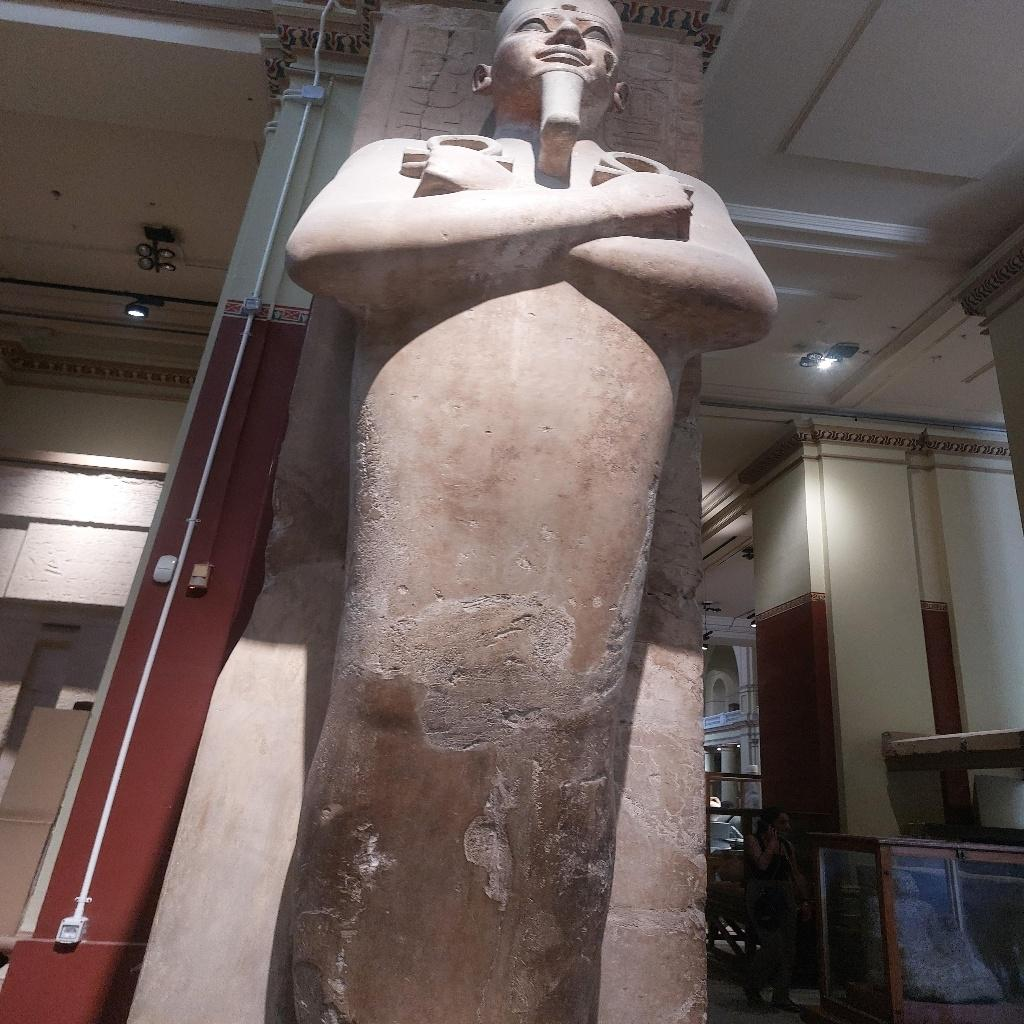Colossus of Senuseret I: (248, 3, 780, 1020)
